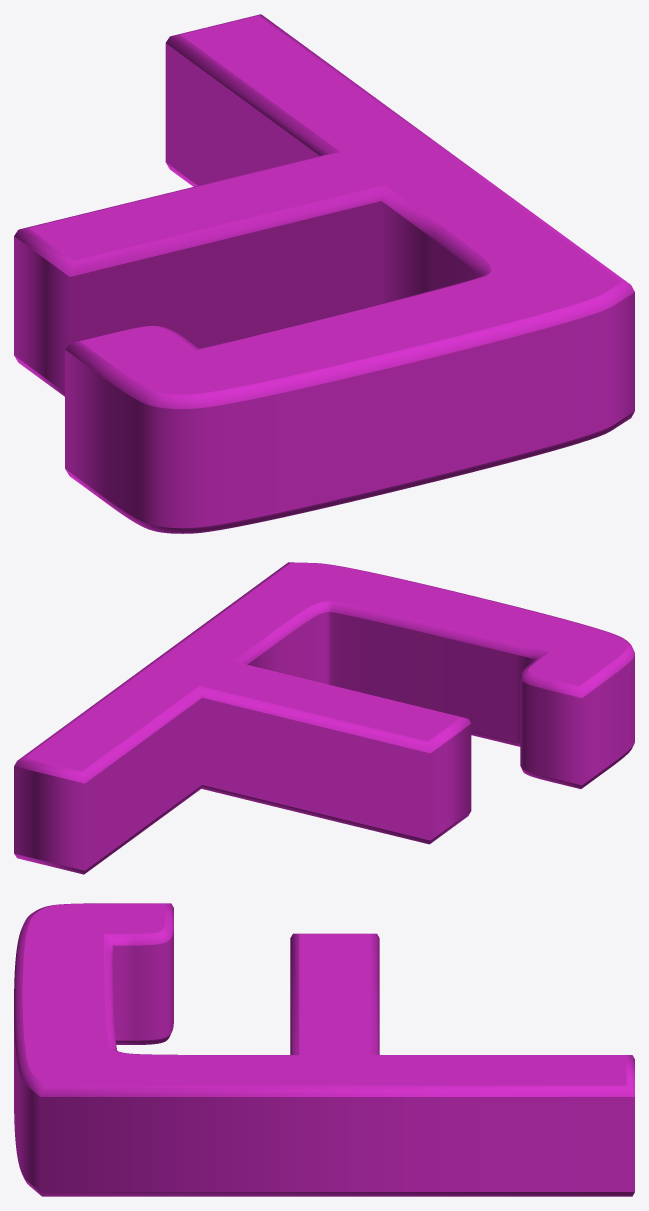
The model's file is Letter_F_Capital_CoolFont.fbx.
3 renders of one model, top to bottom at view 1: azimuth 30°, elevation 25°; view 2: azimuth 150°, elevation 25°; view 3: azimuth 270°, elevation 25°, orthographic. The views are drawn at different scales.
Parts seen in each view (by area): view 1: Letter_F; view 2: Letter_F; view 3: Letter_F.
Boxes of the visible parts, x1,y1,x2,y2 form: Letter_F: (14, 14, 634, 533); Letter_F: (14, 562, 634, 874); Letter_F: (14, 903, 634, 1196).
Size of the model in its own units: 0.5128 by 0.14 by 0.7108.
